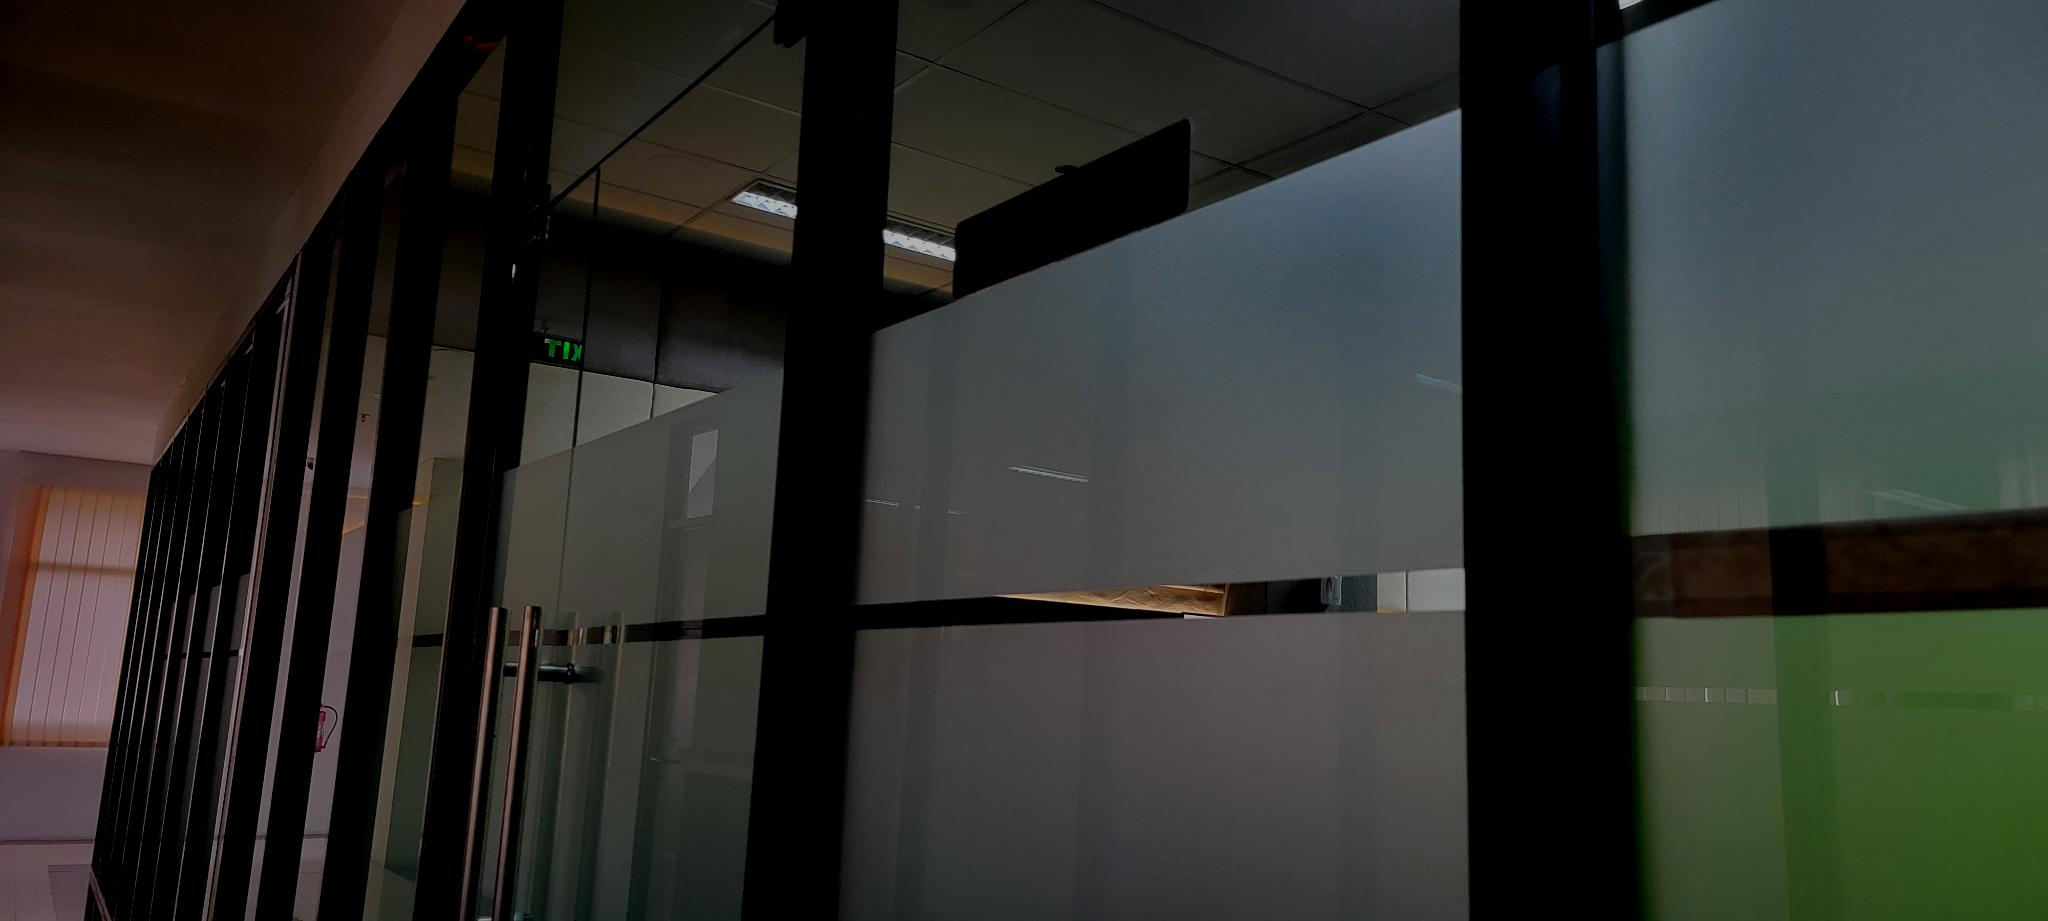plate: (951, 119, 1190, 304)
